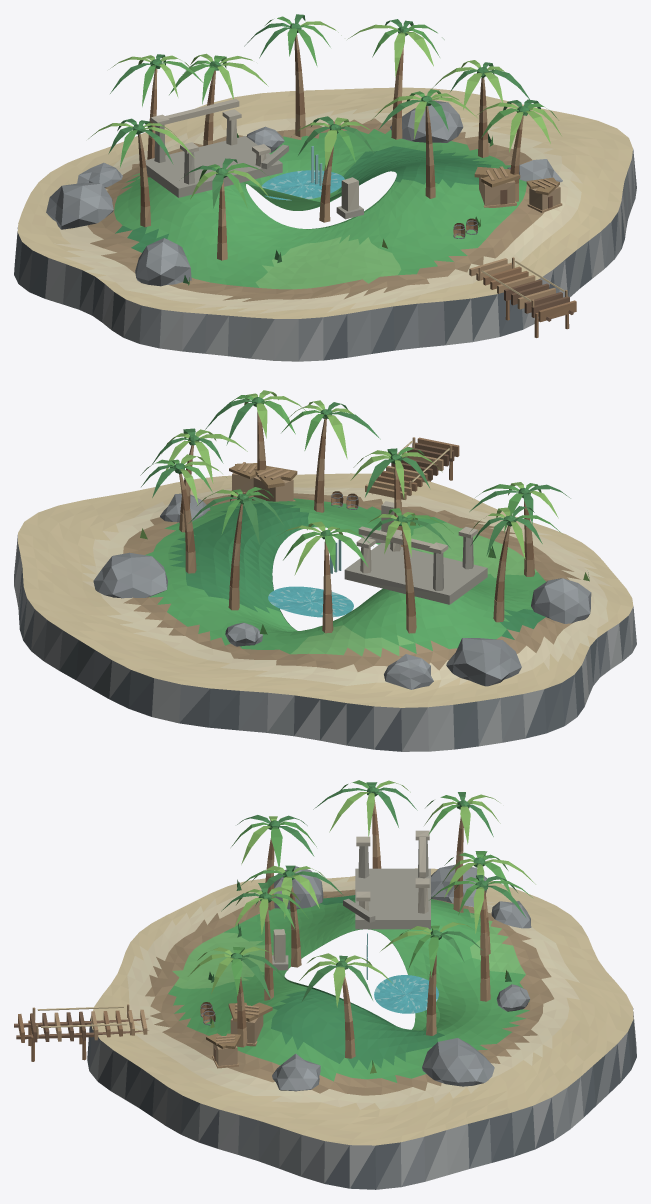
The model's file is island_jungle_ruins.glb.
3 views of the same model, one above another, from view 1: azimuth 30°, elevation 25°; view 2: azimuth 150°, elevation 25°; view 3: azimuth 270°, elevation 25° (orthographic).
Parts seen in each view (by area): view 1: Jungle_ruins_terrain, Jungle_ruins_basal_cliffs, Jungle_ruins_temple_plinth, Jungle_ruins_boulder_0, Jungle_ruins_boulder_2, Jungle_ruins_boulder_3, Jungle_ruins_cenote, Jungle_ruins_boulder_1, Jungle_ruins_boulder_4, Jungle_ruins_stilt_hut_a_walls, Jungle_ruins_intact_lintel, Jungle_ruins_marker (+1 smaller); view 2: Jungle_ruins_terrain, Jungle_ruins_basal_cliffs, Jungle_ruins_temple_plinth, Jungle_ruins_boulder_3, Jungle_ruins_boulder_0, Jungle_ruins_boulder_2, Jungle_ruins_cenote, Jungle_ruins_boulder_1, Jungle_ruins_boulder_5, Jungle_ruins_boulder_4, Jungle_ruins_stilt_hut_a_walls, Jungle_ruins_intact_lintel; view 3: Jungle_ruins_terrain, Jungle_ruins_basal_cliffs, Jungle_ruins_temple_plinth, Jungle_ruins_boulder_3, Jungle_ruins_cenote, Jungle_ruins_boulder_4, Jungle_ruins_boulder_0, Jungle_ruins_boulder_2, Jungle_ruins_boulder_1, Jungle_ruins_boulder_5.
Part boxes in pixels (box(x1,y1,x2,y2)): Jungle_ruins_terrain: box(17, 87, 632, 318); Jungle_ruins_basal_cliffs: box(14, 149, 636, 361); Jungle_ruins_temple_plinth: box(145, 136, 282, 197); Jungle_ruins_boulder_0: box(46, 182, 113, 229); Jungle_ruins_boulder_2: box(135, 238, 191, 286); Jungle_ruins_boulder_3: box(390, 100, 463, 142); Jungle_ruins_cenote: box(261, 170, 344, 200); Jungle_ruins_boulder_1: box(77, 162, 122, 187); Jungle_ruins_boulder_4: box(507, 159, 562, 182); Jungle_ruins_stilt_hut_a_walls: box(479, 177, 515, 205); Jungle_ruins_intact_lintel: box(158, 99, 239, 126); Jungle_ruins_marker: box(341, 177, 358, 211); Jungle_ruins_terrain: box(18, 473, 633, 707); Jungle_ruins_basal_cliffs: box(14, 535, 636, 751); Jungle_ruins_temple_plinth: box(344, 543, 487, 604); Jungle_ruins_boulder_3: box(93, 552, 167, 598); Jungle_ruins_boulder_0: box(446, 638, 521, 686); Jungle_ruins_boulder_2: box(531, 578, 591, 623); Jungle_ruins_cenote: box(268, 586, 353, 617); Jungle_ruins_boulder_1: box(384, 654, 433, 689); Jungle_ruins_boulder_5: box(225, 622, 262, 646); Jungle_ruins_boulder_4: box(160, 493, 210, 522); Jungle_ruins_stilt_hut_a_walls: box(253, 476, 293, 501); Jungle_ruins_intact_lintel: box(358, 526, 440, 554); Jungle_ruins_terrain: box(90, 868, 633, 1145); Jungle_ruins_basal_cliffs: box(87, 1008, 636, 1189); Jungle_ruins_temple_plinth: box(355, 868, 430, 929); Jungle_ruins_boulder_3: box(422, 1038, 494, 1086); Jungle_ruins_cenote: box(374, 975, 438, 1013); Jungle_ruins_boulder_4: box(272, 1053, 320, 1091); Jungle_ruins_boulder_0: box(431, 864, 487, 906); Jungle_ruins_boulder_2: box(274, 866, 323, 909); Jungle_ruins_boulder_1: box(491, 901, 531, 928); Jungle_ruins_boulder_5: box(496, 984, 529, 1011).
Size of the model in its own units: 24.67 by 7.46 by 23.06.
